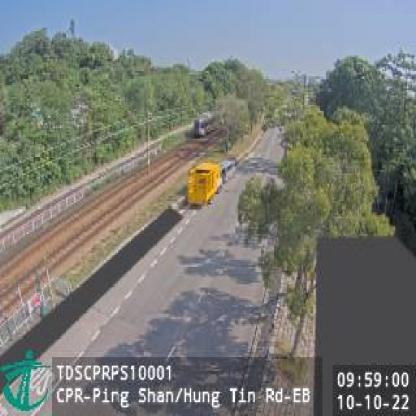Car: (221, 157, 238, 175)
Truck: (190, 158, 223, 206)
